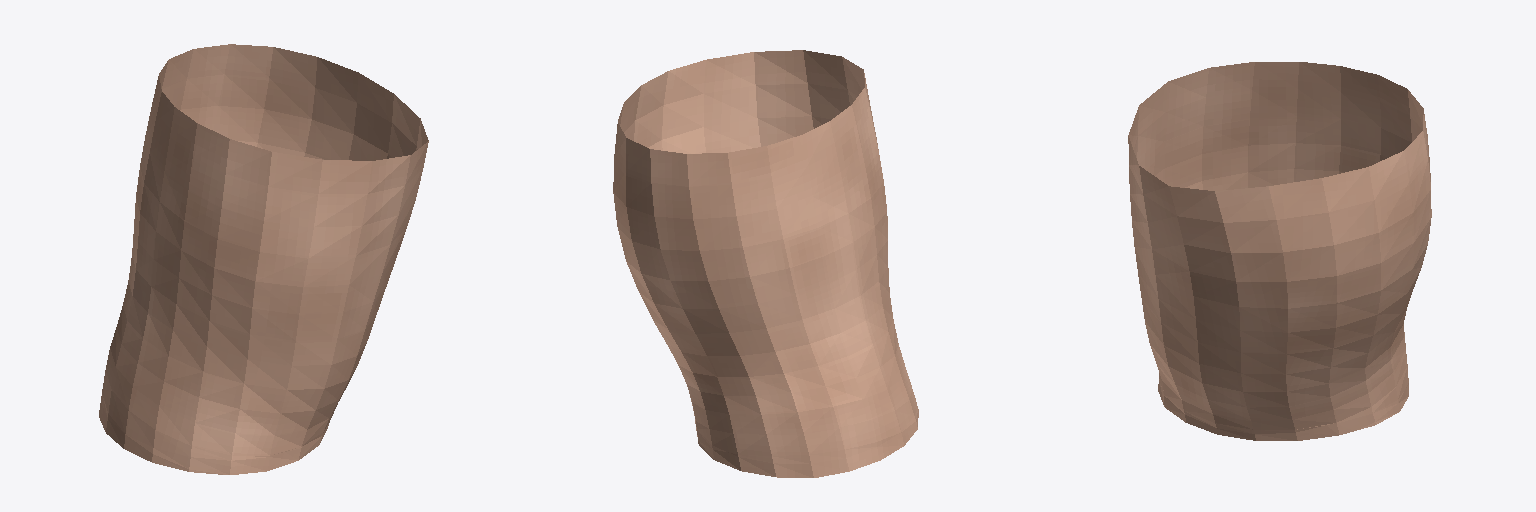
3 views of the same model, side by side, from view 1: azimuth 30°, elevation 25°; view 2: azimuth 150°, elevation 25°; view 3: azimuth 270°, elevation 25° (orthographic).
Parts seen in each view (by area): view 1: pcopy; view 2: pcopy; view 3: pcopy.
Part boxes in pixels (left/top/right/bottom): pcopy: left=99, top=44, right=428, bottom=474; pcopy: left=613, top=50, right=918, bottom=477; pcopy: left=1128, top=62, right=1431, bottom=440.
Size of the model in its own units: 0.0814 by 0.0924 by 0.0796.
1 materials, 1 textured.